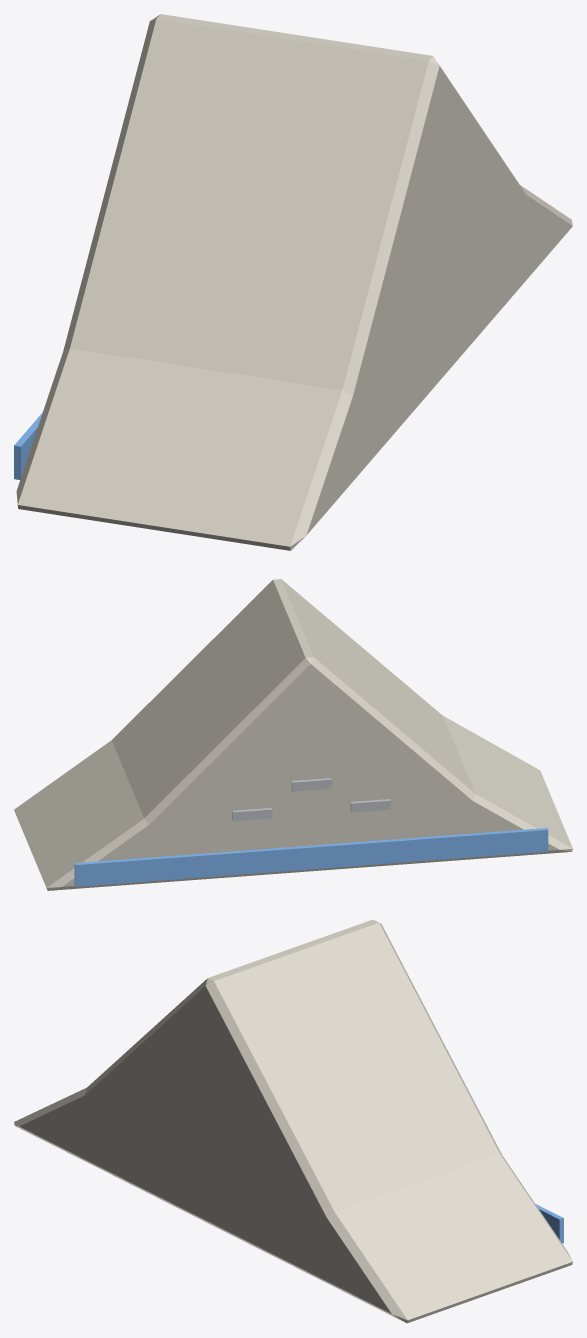
File: paper_head.fbx
3 views of the same model, one above another, from view 1: azimuth 30°, elevation 25°; view 2: azimuth 150°, elevation 25°; view 3: azimuth 270°, elevation 25° (orthographic). The views are drawn at different scales.
Parts seen in each view (by area): view 1: paper_head; view 2: paper_head; view 3: paper_head.
Boxes of the visible parts, x1,y1,x2,y2 form: paper_head: (14, 14, 572, 550); paper_head: (14, 579, 572, 890); paper_head: (14, 919, 572, 1323).
Bounding box in the file's own units: 1.33 × 0.5894 × 1.22.
